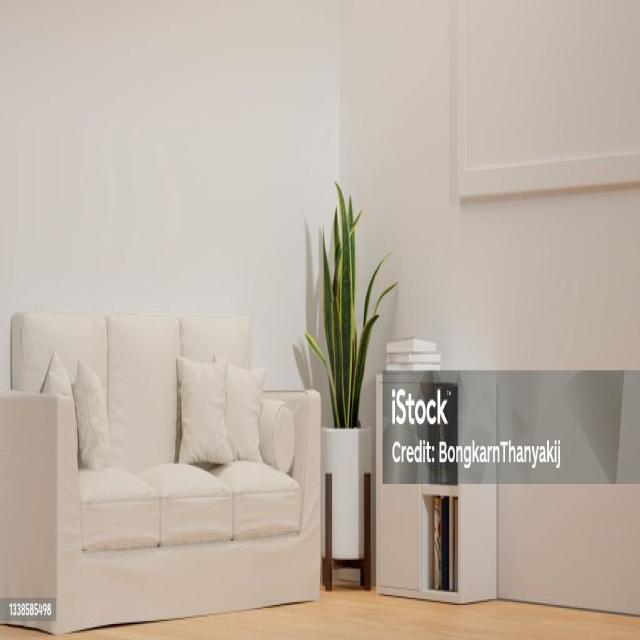back_cushion: (12, 312, 293, 471)
base: (62, 538, 311, 627)
left_arm: (267, 389, 321, 601)
right_arm: (0, 392, 81, 631)
seat_cushion: (79, 461, 300, 550)
stallion-sofa1: (0, 312, 324, 631)
